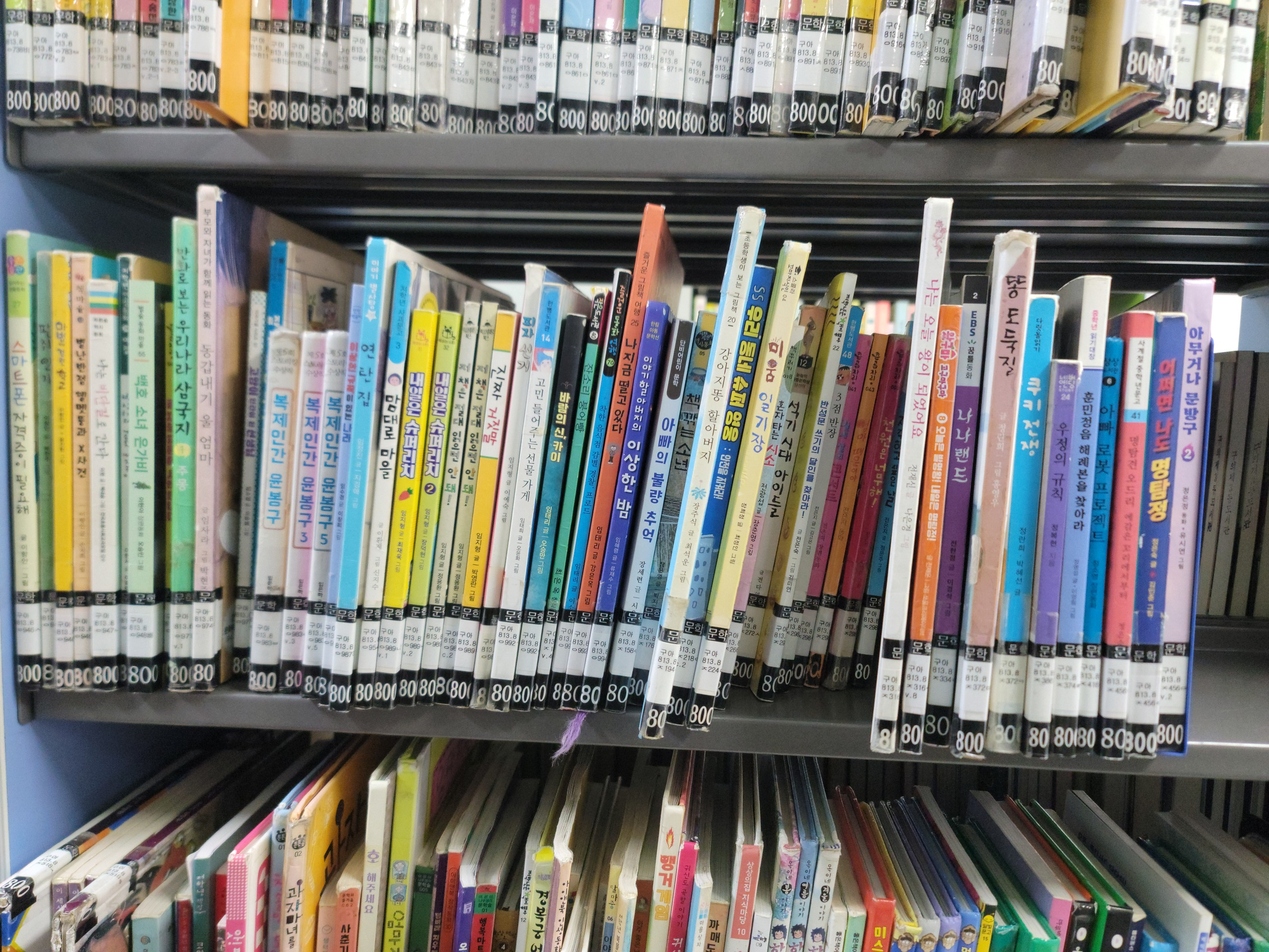book-spine: (641, 206, 763, 736), (688, 239, 810, 728), (564, 202, 666, 715), (665, 260, 776, 727), (753, 272, 855, 728), (577, 208, 666, 715), (870, 199, 950, 751), (723, 309, 827, 727), (956, 232, 1033, 756), (622, 305, 719, 720), (768, 306, 863, 729), (708, 320, 806, 725), (545, 264, 632, 713), (601, 313, 696, 718), (579, 297, 670, 716), (781, 329, 874, 730), (796, 335, 889, 731), (819, 337, 909, 733), (486, 280, 564, 713), (469, 264, 545, 707), (530, 287, 609, 711), (988, 289, 1057, 755), (924, 276, 991, 749), (509, 317, 586, 713), (350, 258, 416, 708), (1154, 278, 1215, 756), (898, 306, 963, 753), (1049, 275, 1109, 756), (846, 333, 916, 735), (329, 243, 389, 710), (450, 310, 518, 706), (371, 308, 438, 707), (1097, 310, 1156, 761), (415, 303, 481, 705), (394, 312, 461, 704), (1125, 315, 1184, 759), (433, 303, 498, 706), (1023, 366, 1079, 757), (1073, 339, 1124, 754), (316, 282, 365, 705), (247, 322, 300, 695), (275, 332, 327, 697), (0, 232, 40, 691), (298, 329, 347, 697), (227, 285, 266, 694), (240, 242, 292, 541), (191, 187, 221, 694), (167, 217, 196, 692), (88, 276, 118, 693), (128, 279, 156, 689), (48, 250, 73, 692), (33, 253, 56, 685), (69, 254, 91, 694), (117, 249, 131, 686)
